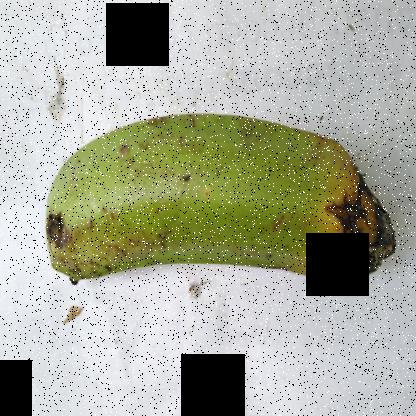rotten: (289, 133, 408, 309)
unripe: (30, 107, 317, 282)
